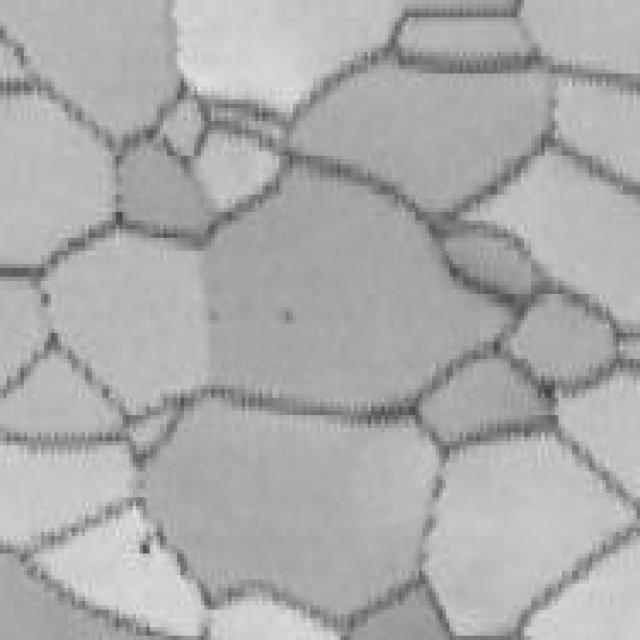good_void: (132, 535, 160, 558)
